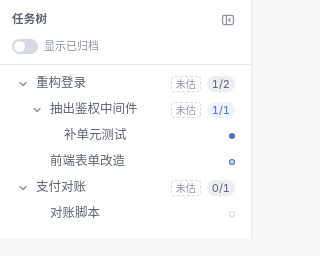
it: Sidebar › 拖动途中被拖的节点已不在树里（重取后它被删了）时，松手不再发请求
Press the mouse on the button "对账脚本" at (136, 214), box top-left (50, 204), bottom-right (223, 223)
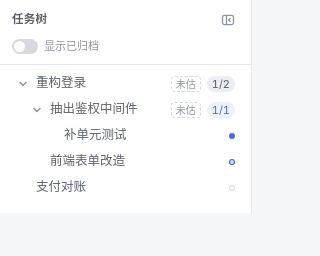
expect the button "对账脚本" is gone: met
